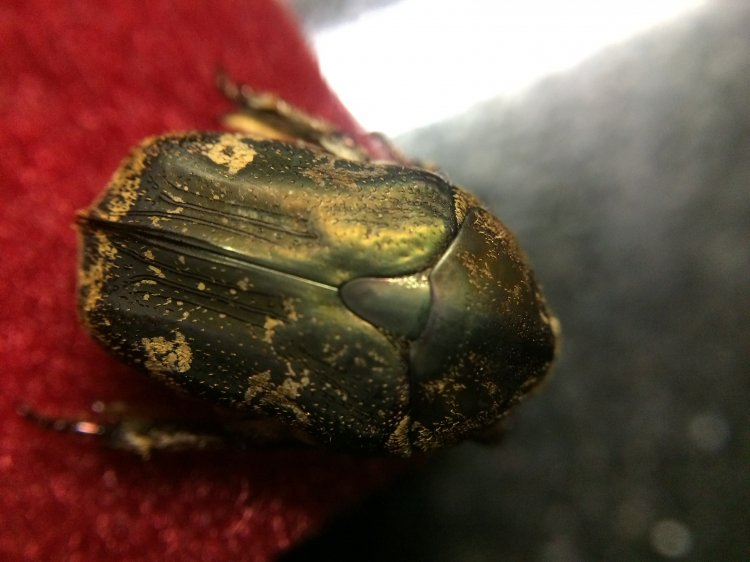Protaetia_fusca: (69, 117, 566, 489)
